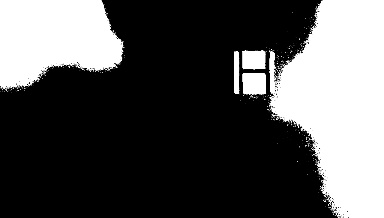H: (232, 50, 274, 92)
